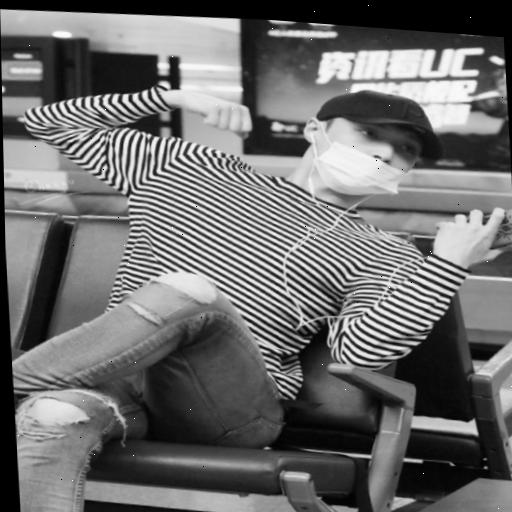mask: (286, 75, 443, 212)
